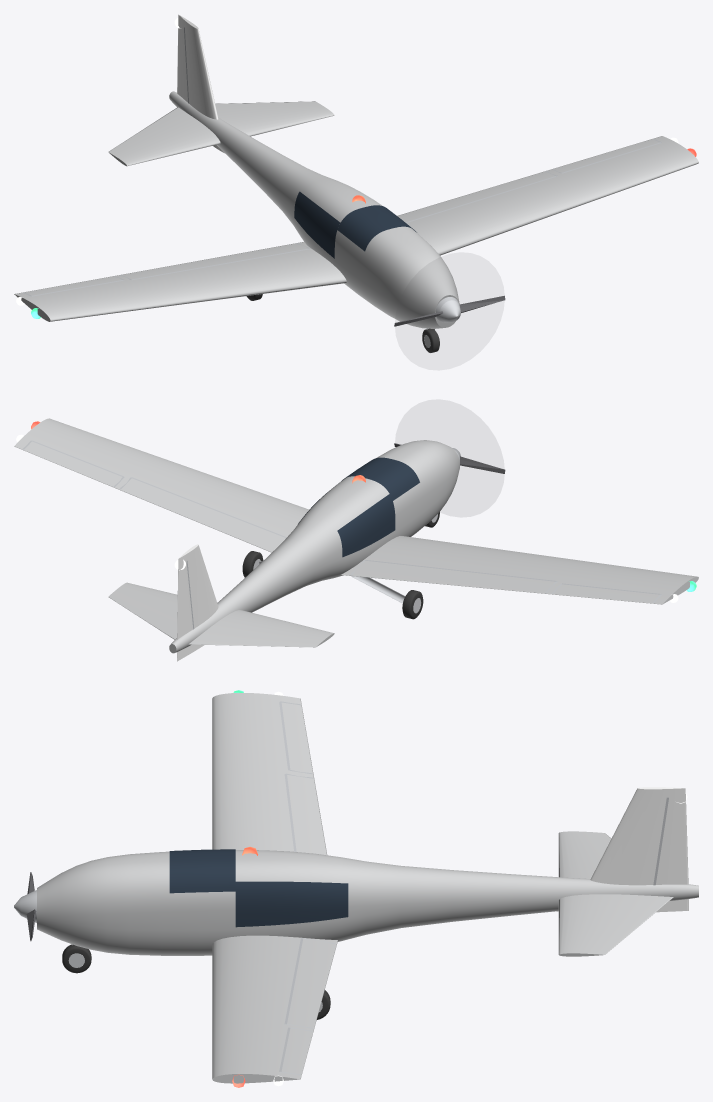
3 renders of one model, top to bottom at view 1: azimuth 30°, elevation 25°; view 2: azimuth 150°, elevation 25°; view 3: azimuth 270°, elevation 25°, orthographic. The views are drawn at different scales.
Parts seen in each view (by area): view 1: airframe, prop; view 2: airframe; view 3: airframe.
Boxes of the visible parts, bbox=[...] form: airframe: bbox=[14, 14, 698, 353]; prop: bbox=[394, 295, 505, 326]; airframe: bbox=[14, 418, 698, 661]; airframe: bbox=[14, 690, 698, 1087].
Size of the model in its own units: 9.62 by 2.16 by 7.14.
